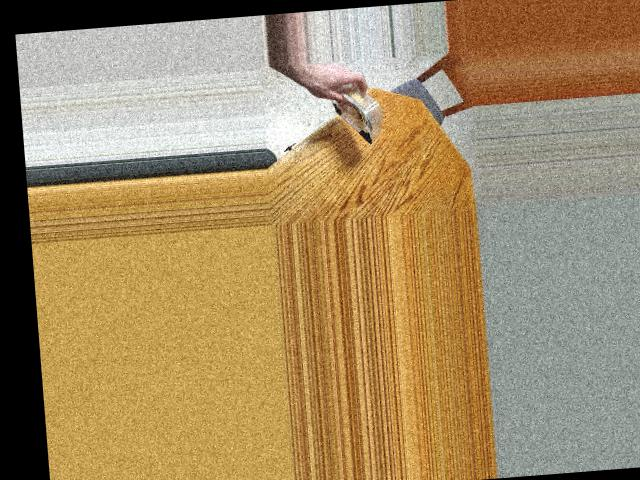cheese: (322, 78, 397, 140)
